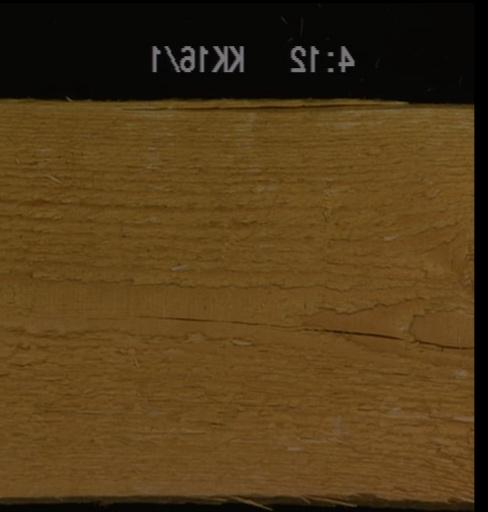split: (131, 313, 472, 350), (121, 97, 472, 112)
